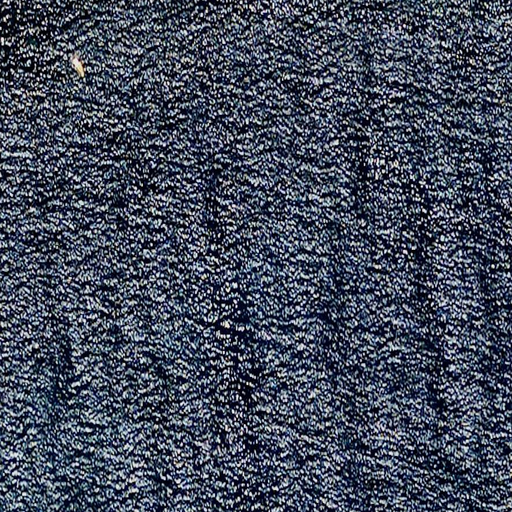ship: (70, 56, 87, 77)
